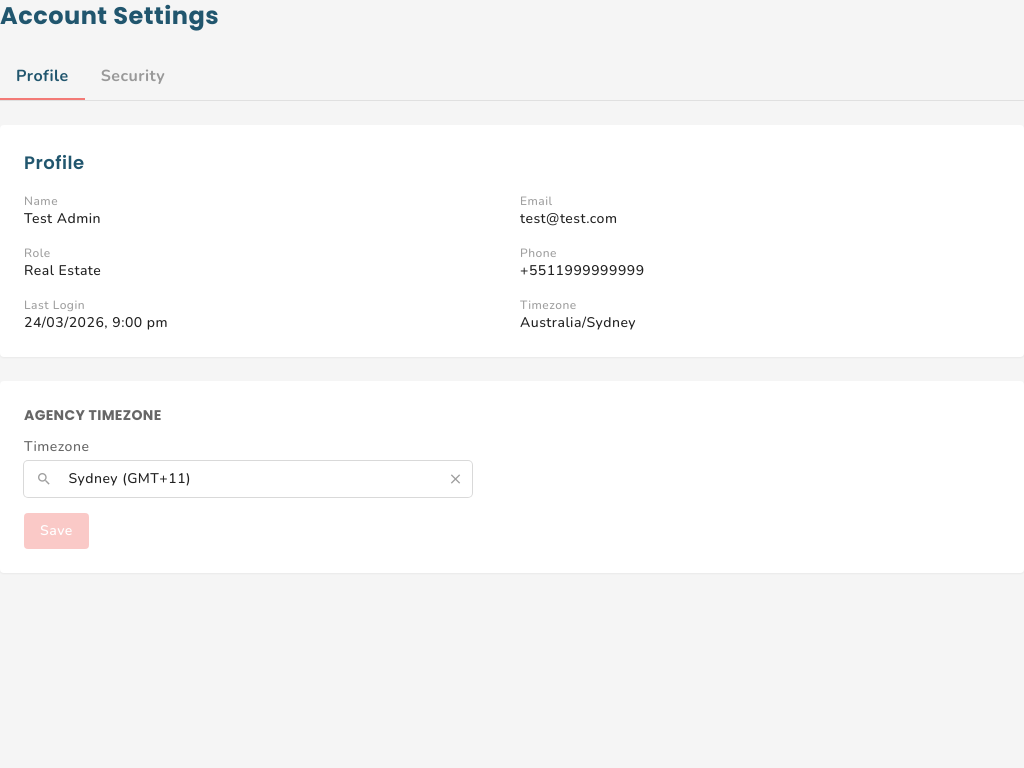
Scenario: AccountSettingsPage — CL_ADMIN agency timezone flow › cancelling the dialog issues no PATCH
Click the dropdown named "Agency timezone" at (252, 479), box [56,461,448,497]
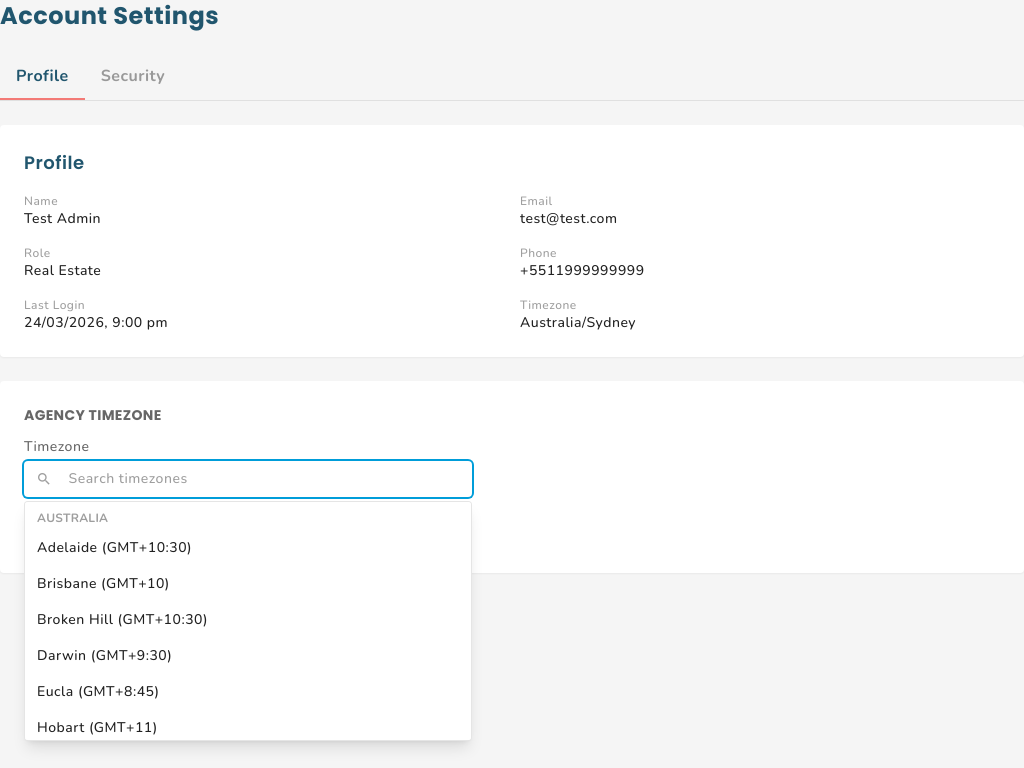
Type keys "perth"
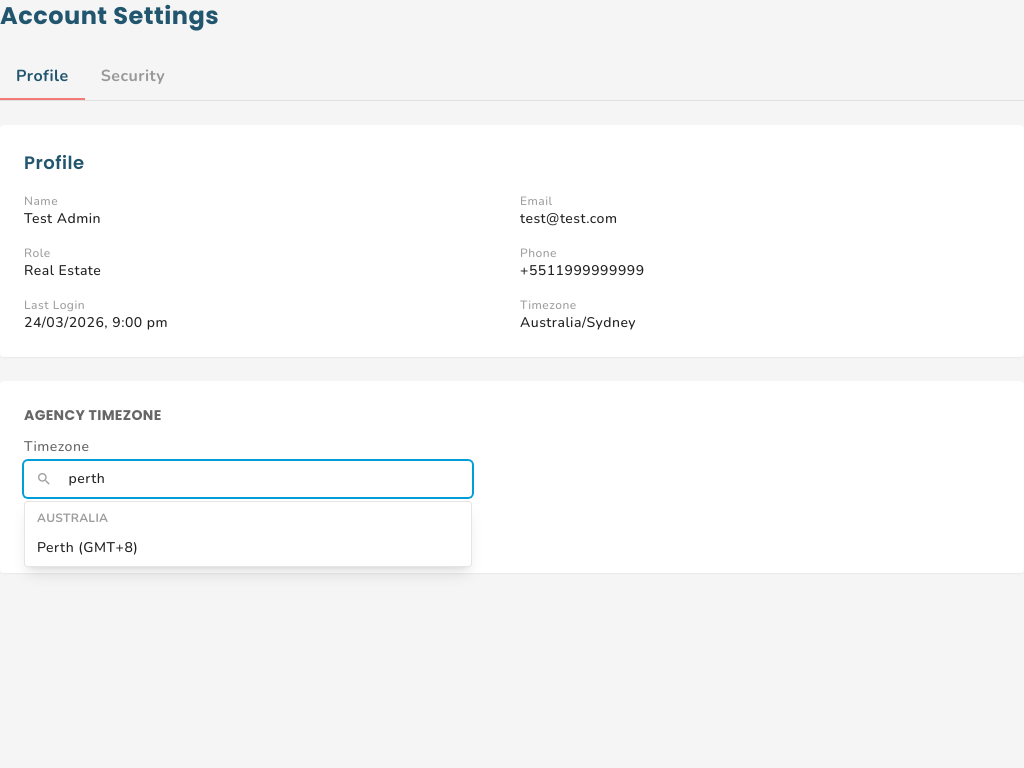
Click the option "Perth (GMT+8)" at (88, 548), box [37,538,138,557]
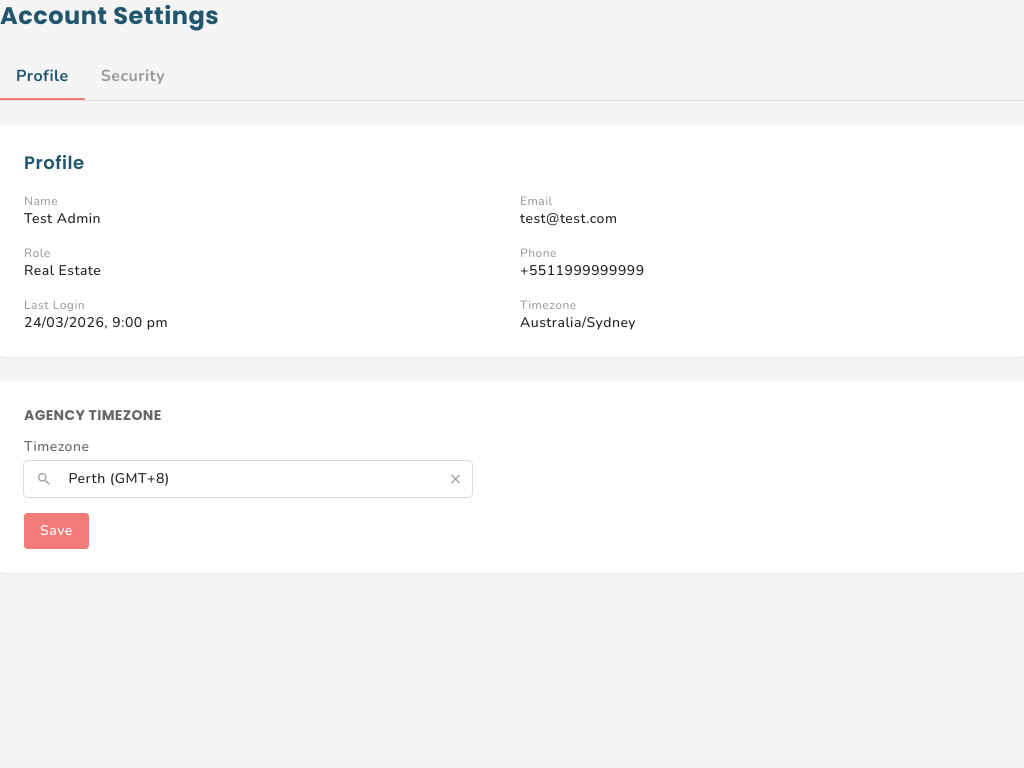
Click the button "Save" at (56, 531), box [24,513,89,549]
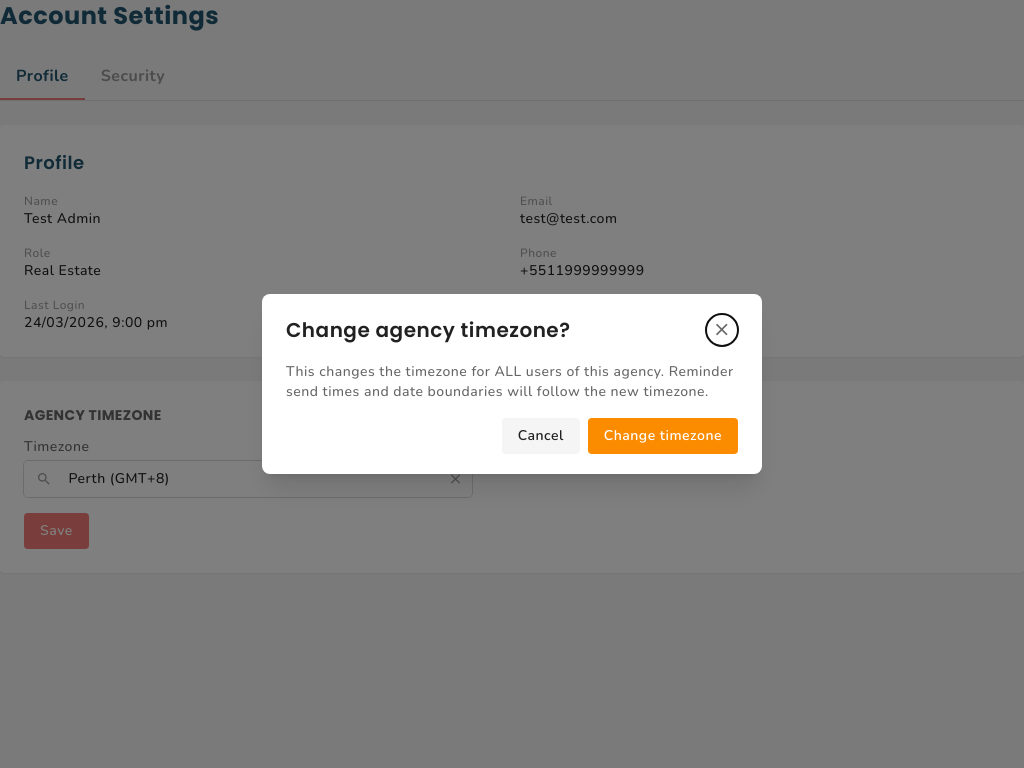
Click the button "Cancel" at (541, 436), box [502,418,580,454]
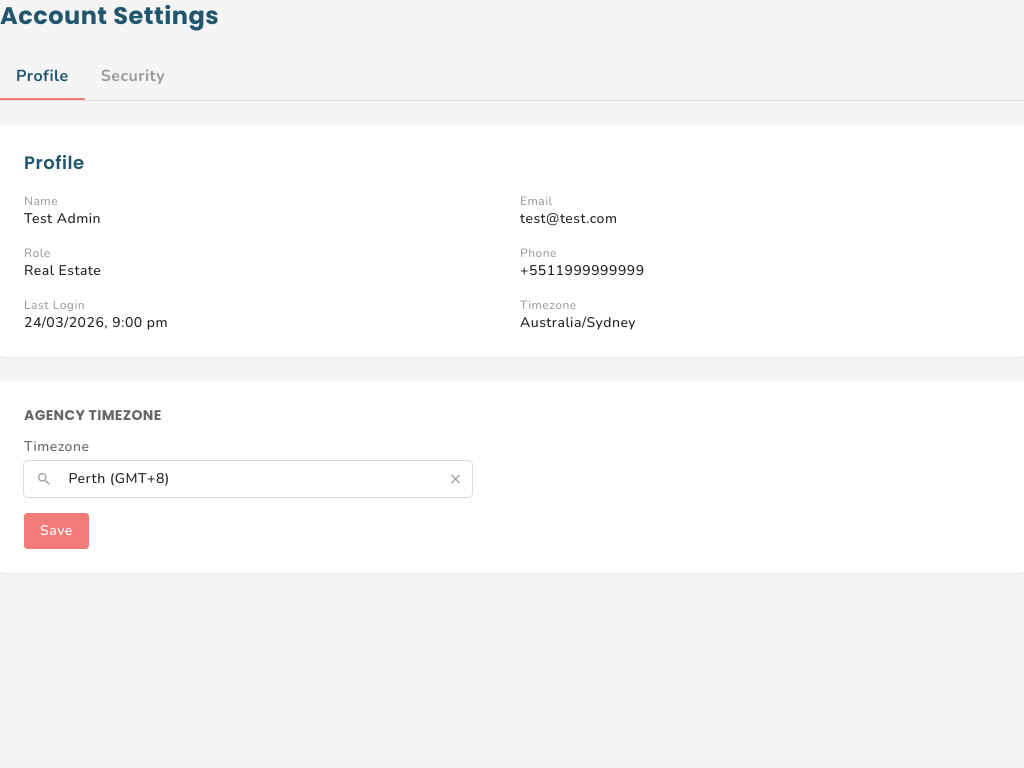
Result: the heading "Change agency timezone?" is gone
